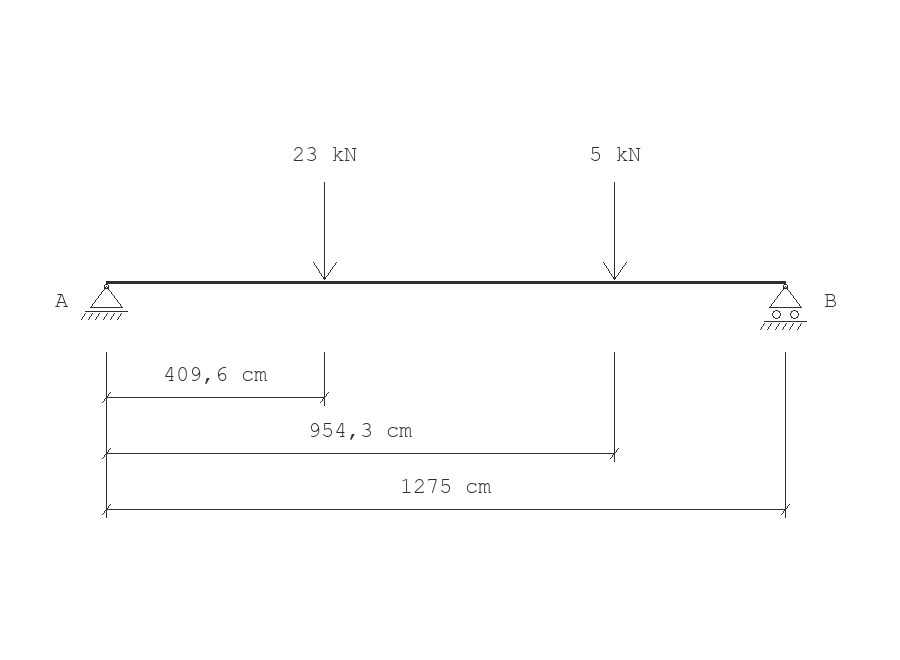pin_support: (81, 284, 128, 320)
point_load: (313, 182, 337, 280), (603, 182, 627, 280)
roller_support: (760, 284, 807, 330)
